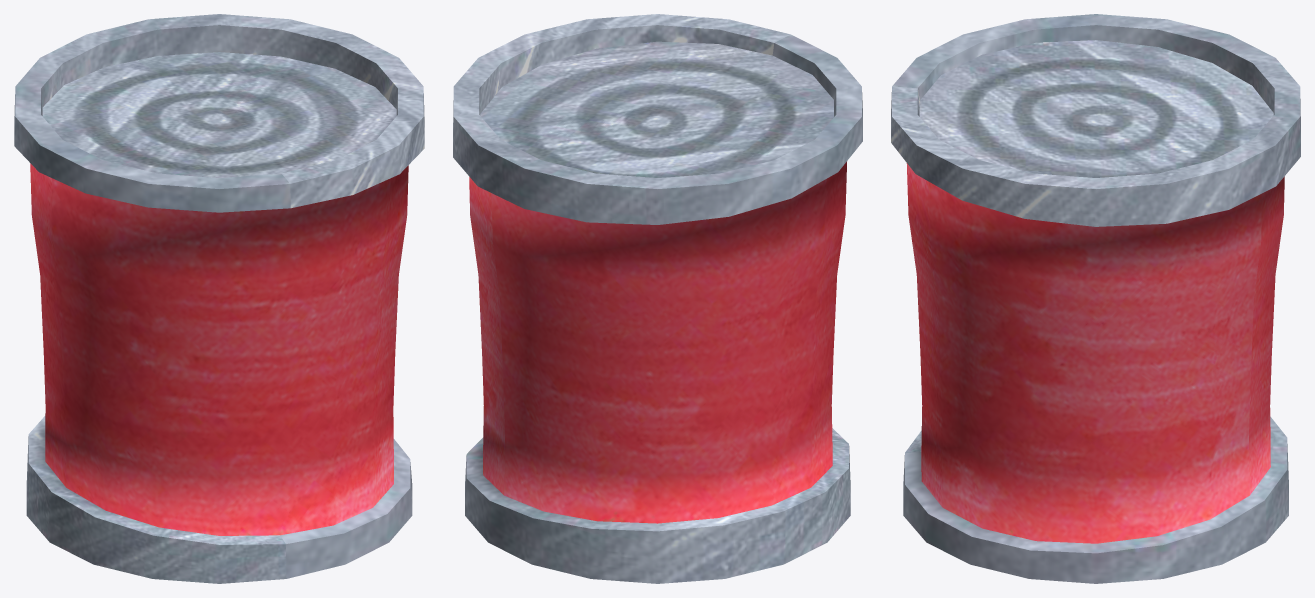
The model's file is canette_mesh.fbx.
3 views of the same model, side by side, from view 1: azimuth 30°, elevation 25°; view 2: azimuth 150°, elevation 25°; view 3: azimuth 270°, elevation 25° (orthographic).
Visible parts, largest first — view 1: canette foie gras; view 2: canette foie gras; view 3: canette foie gras.
Part boxes in pixels (<box>): canette foie gras: <box>14,14,424,583</box>; canette foie gras: <box>453,14,862,583</box>; canette foie gras: <box>891,14,1300,583</box>.
Size of the model in its own units: 47.22 by 50 by 46.49.
